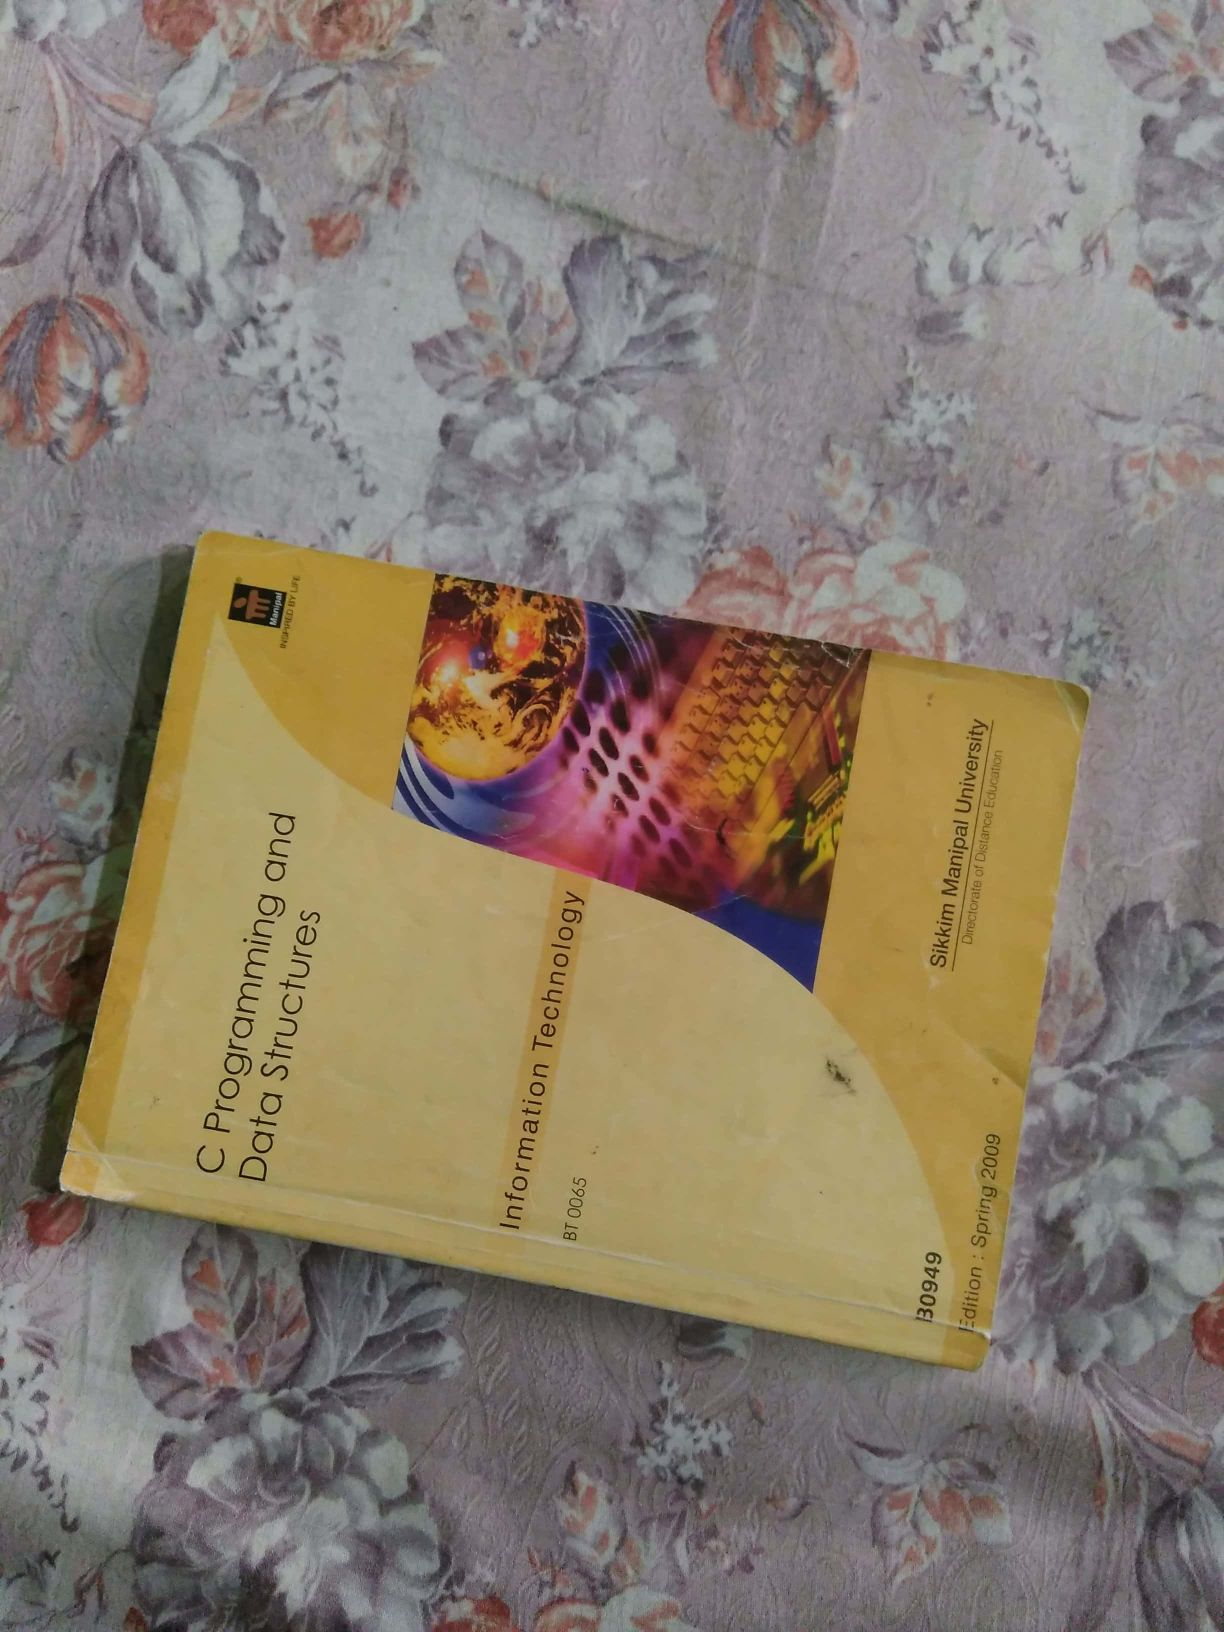clang: (63, 497, 1068, 1432)
